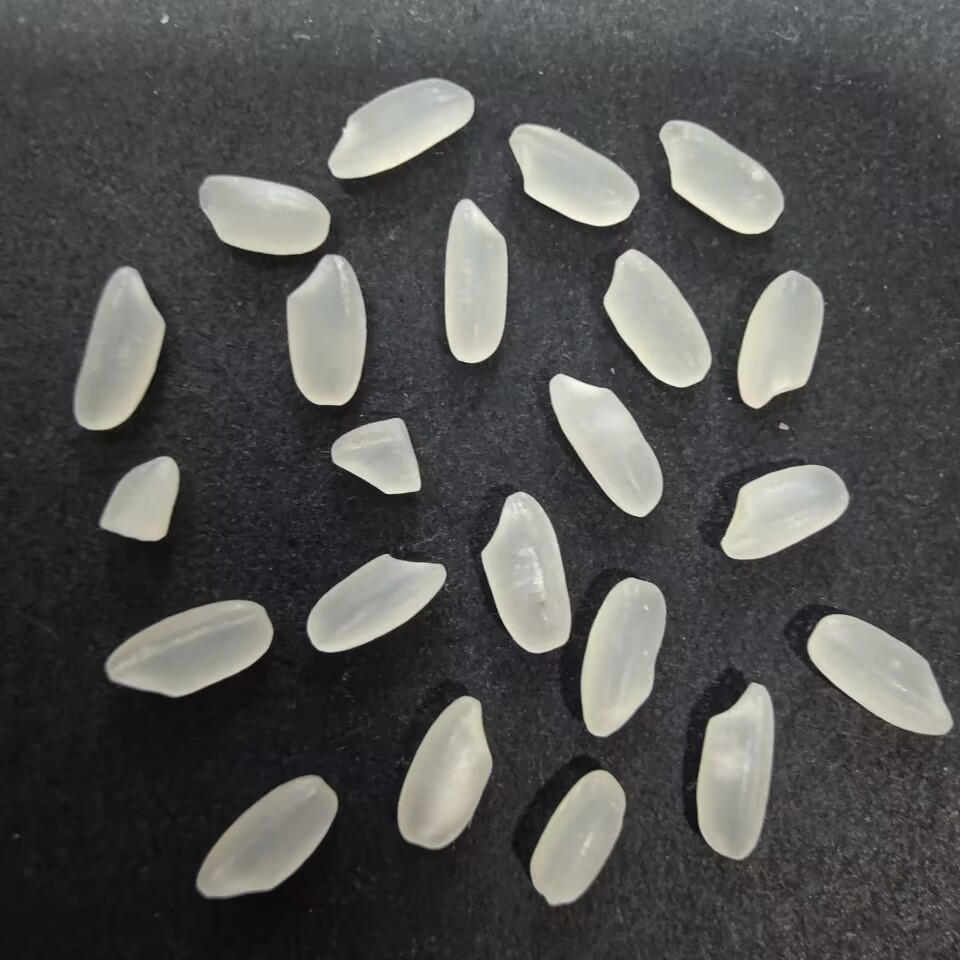broken: (90, 452, 185, 551), (330, 414, 428, 501)
rice: (187, 773, 344, 906), (803, 608, 959, 737), (546, 369, 670, 526), (100, 594, 276, 702), (64, 262, 168, 438), (475, 485, 579, 658), (321, 70, 476, 186), (391, 690, 498, 854), (654, 114, 791, 242), (576, 570, 671, 743), (690, 676, 775, 863), (602, 248, 714, 389), (303, 549, 447, 657), (525, 763, 629, 911), (281, 252, 377, 412), (505, 120, 644, 229), (714, 461, 852, 562), (734, 268, 826, 414), (441, 196, 516, 370), (190, 169, 334, 257)
